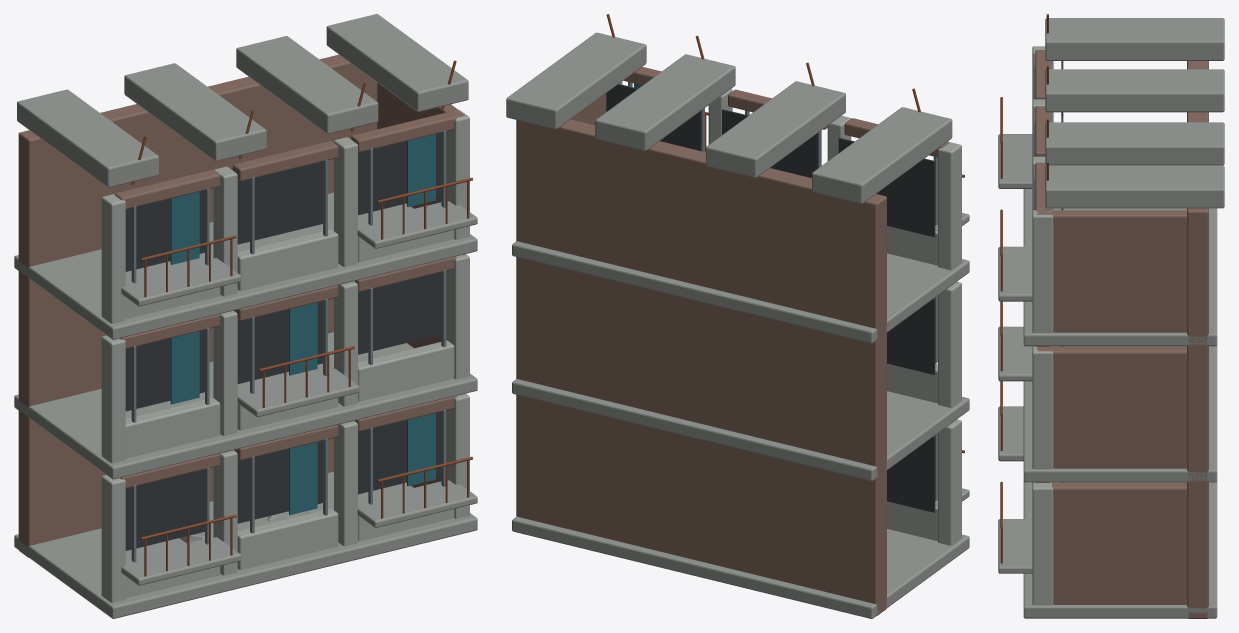
Rendered from apartment.glb.
3 renders of one model, left to right at view 1: azimuth 30°, elevation 25°; view 2: azimuth 150°, elevation 25°; view 3: azimuth 270°, elevation 25°, orthographic. The views are drawn at different scales.
Parts seen in each view (by area): view 1: apartment.001; view 2: apartment.001; view 3: apartment.001.
Part boxes in pixels (bbox=[...]): apartment.001: bbox=[14, 14, 477, 618]; apartment.001: bbox=[506, 14, 969, 618]; apartment.001: bbox=[998, 14, 1224, 618].
Size of the model in its own units: 8.55 by 10.48 by 4.67.
